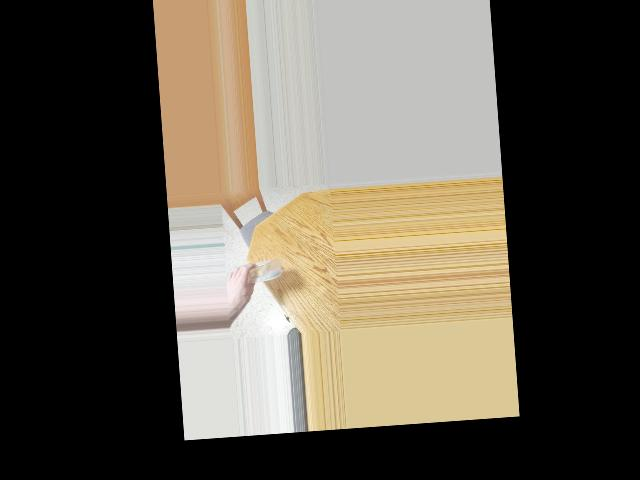cheese: (234, 250, 284, 301)
